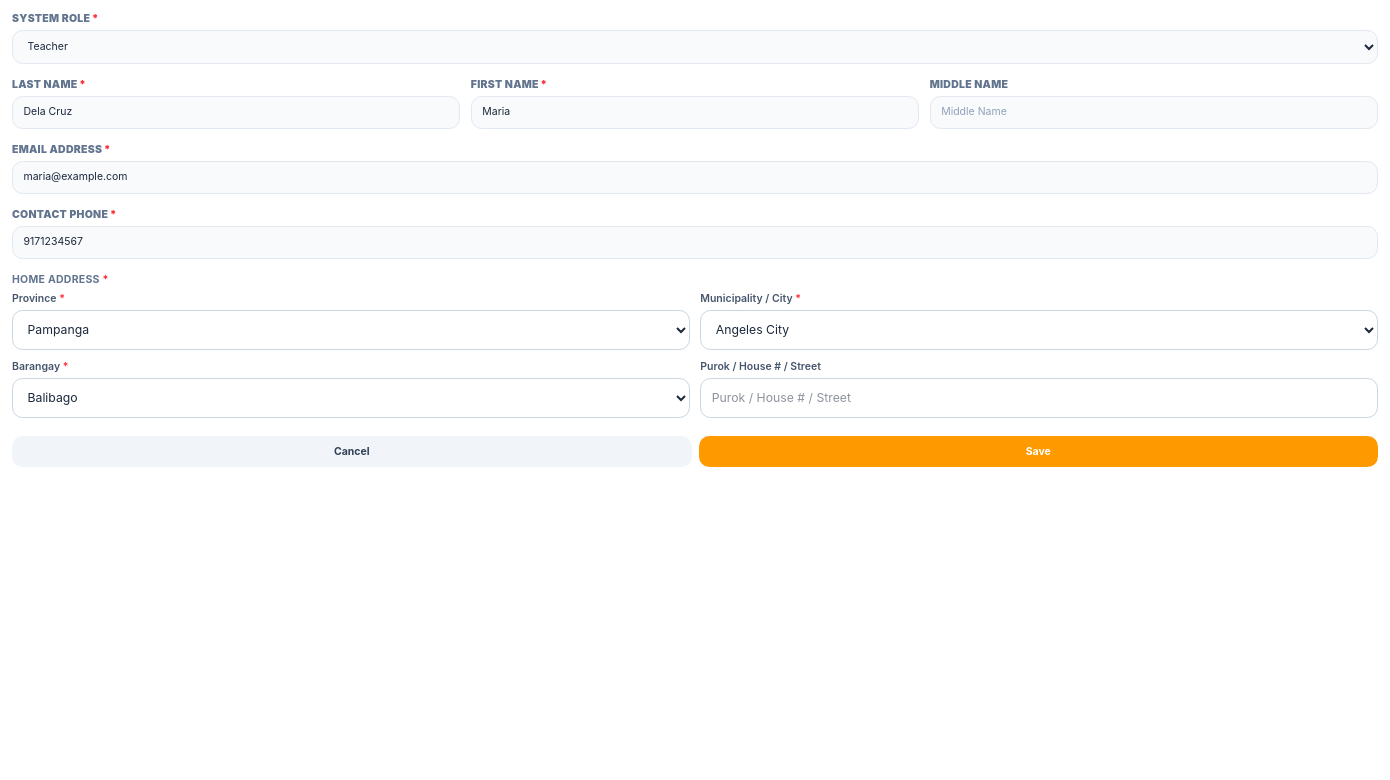
Test case: AccountForm phone hint › follows the role dropdown as it changes
The image size is (1390, 780).
Expected: the text "Philippine mobile number" is not shown
Select "Parent" in the dropdown labelled "System Role*". click: (695, 47)
box: [12,30,1378,64]
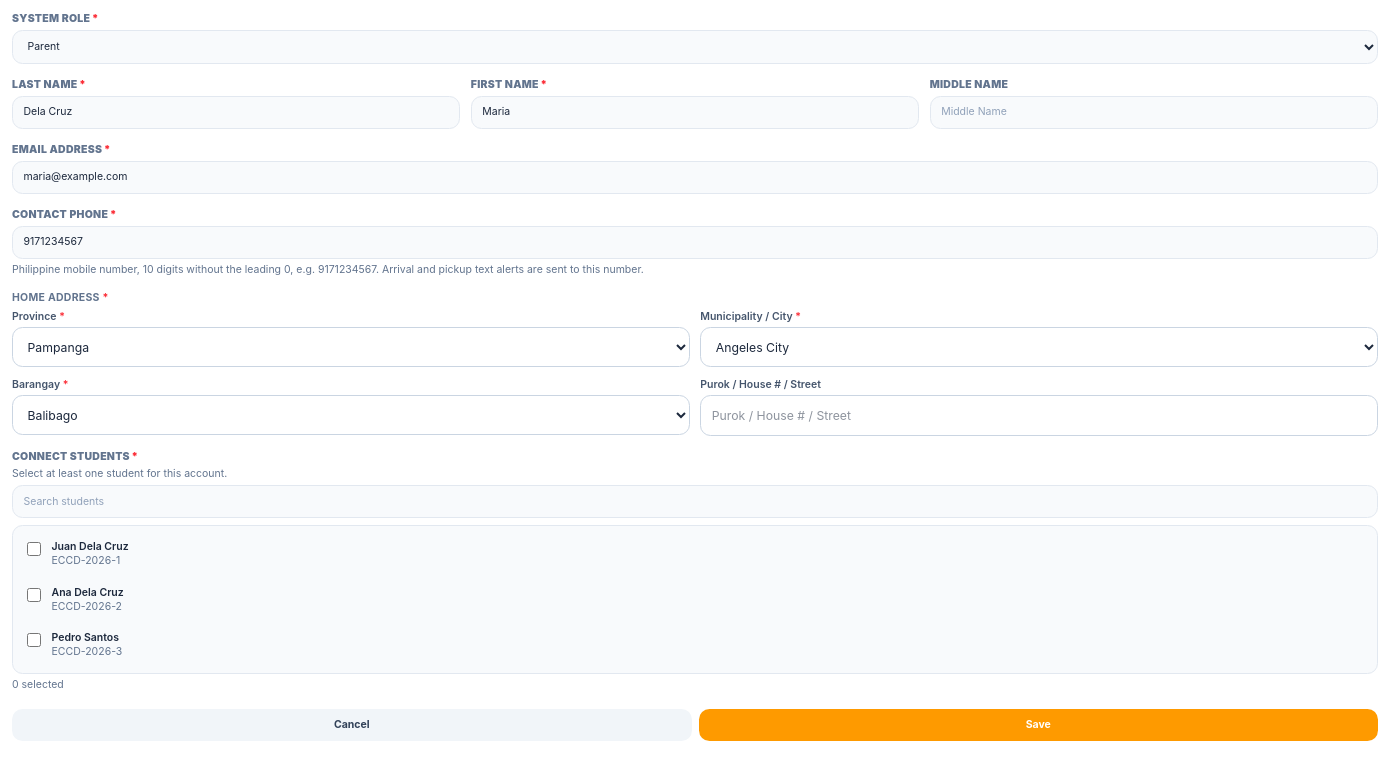
Expected: the text "Philippine mobile number" is shown, [12,262,644,276]
